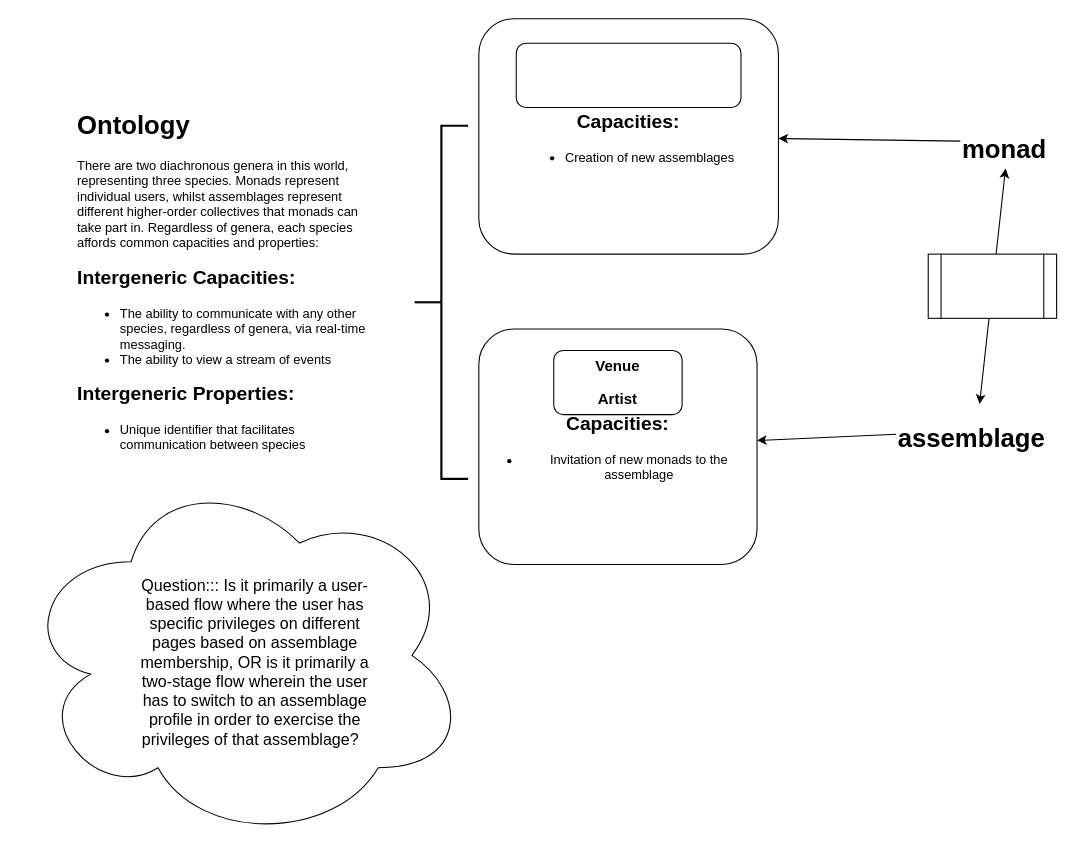
The diagram is 1075 pixels wide and 861 high, and some of its shapes have lost their labels. Each missing label, with the centre of its shape:
"composition, decomposition" belongs at (992,285).
"Free Paid" belongs at (628,75).
